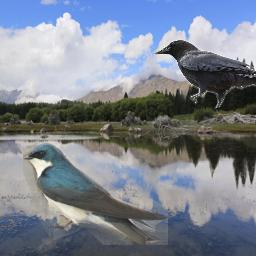Crow: (154, 40, 256, 108)
Swallow: (23, 142, 168, 245)
